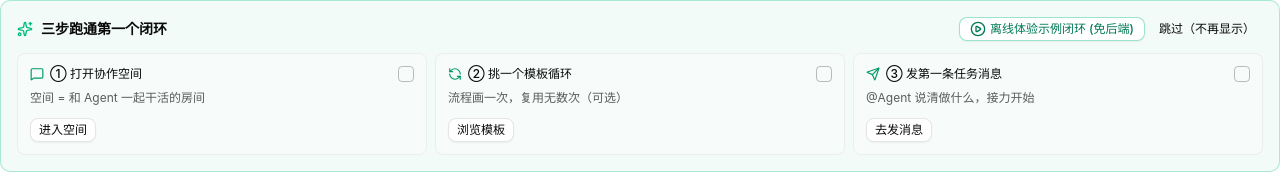
Test case: WelcomeSteps: 三步引导与示例闭环 (C-7) › 允许独立勾选步骤完成态，并持久化到本地存储
Click the button named "标记第 1 步为已完成" at [406, 74], box [398, 66, 414, 82]
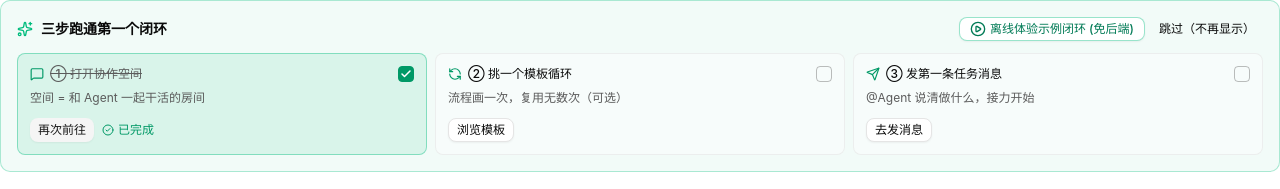
Expected: the text "已完成" is shown, [102, 122, 154, 138]
Expected: the button "再次前往" is shown, [30, 118, 94, 142]
Note: 再次点击取消勾选
Click the button named "标记第 1 步为未完成" at [406, 74], box [398, 66, 414, 82]
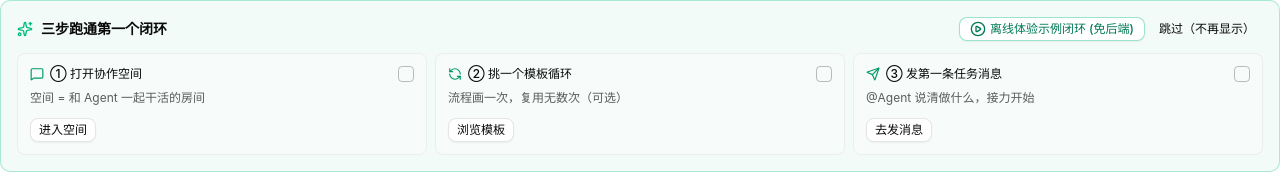
Expected: the text "已完成" is gone
